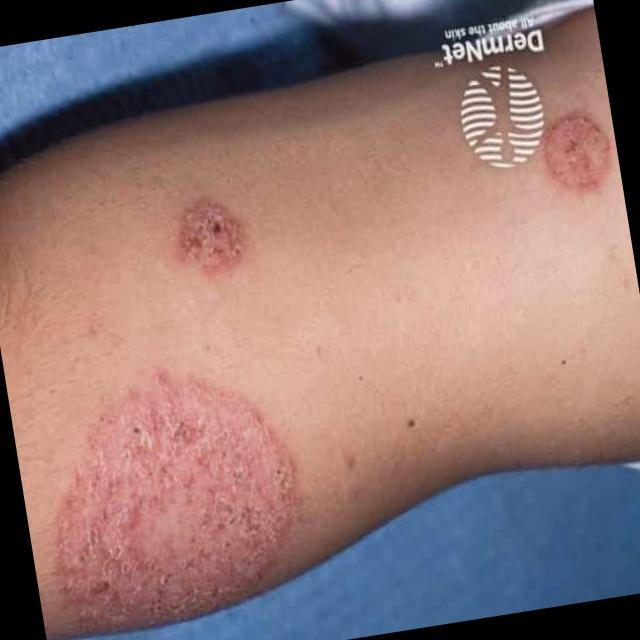Eczema: (43, 375, 301, 623), (174, 195, 251, 276), (541, 110, 615, 193)
